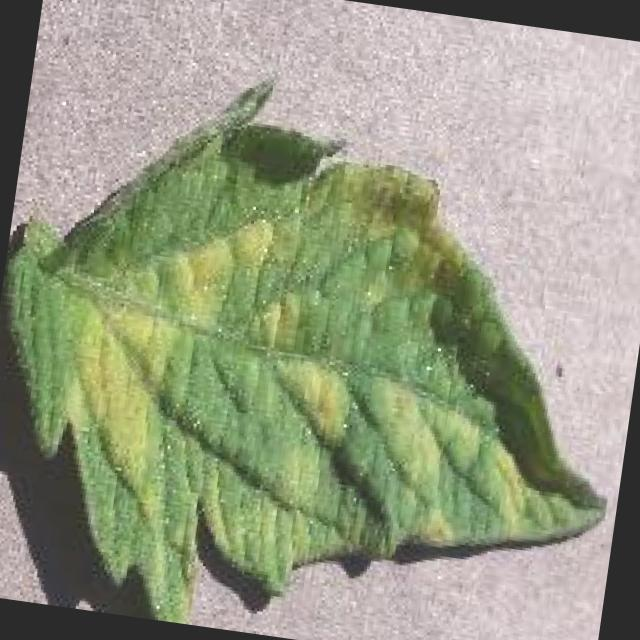leaf mold: (7, 86, 611, 623)
